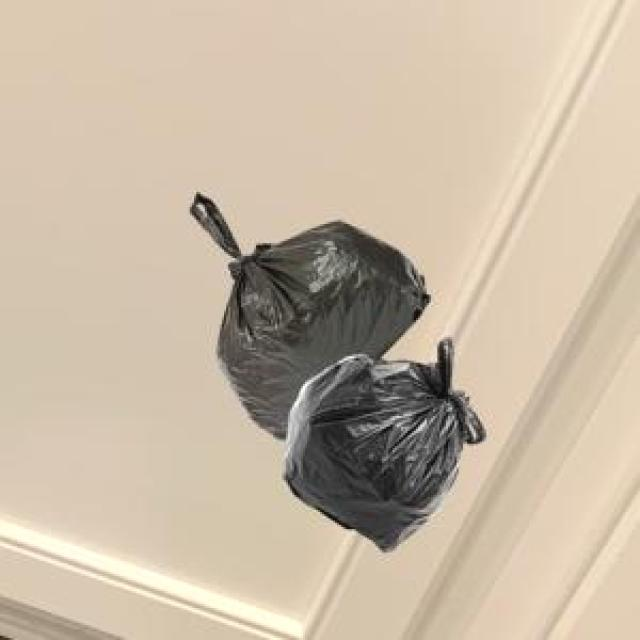Trashbag: (277, 354, 479, 556), (209, 215, 423, 378)
